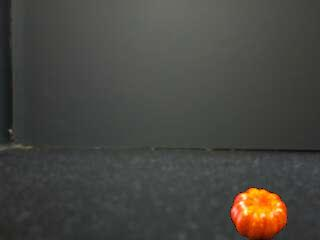Pumpkin: (230, 187, 288, 239)
